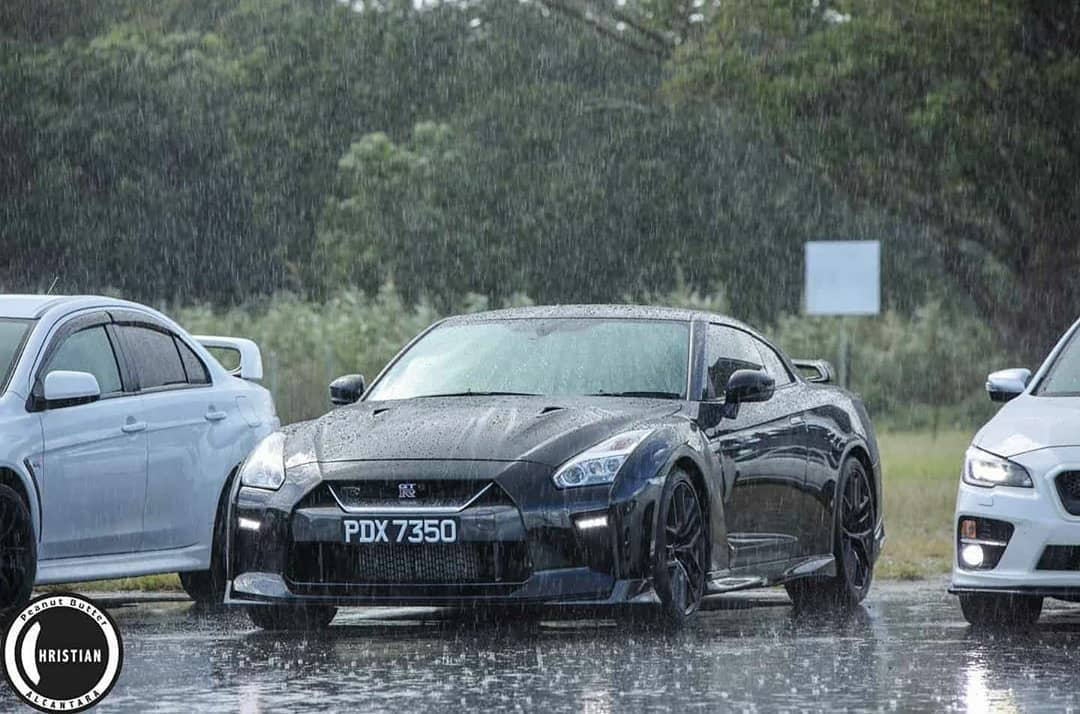License-Plate: (340, 516, 460, 543)
